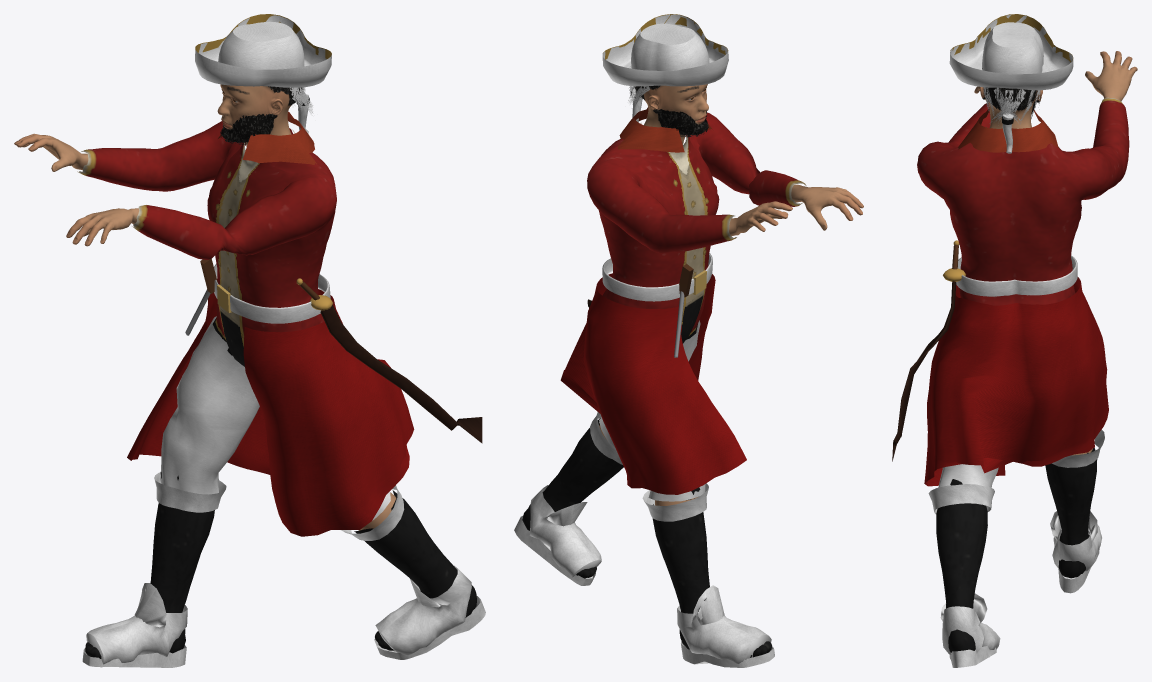
Rendered from SM_Art_Person_armada_officer.gltf.
3 renders of one model, left to right at view 1: azimuth 30°, elevation 25°; view 2: azimuth 150°, elevation 25°; view 3: azimuth 270°, elevation 25°, orthographic. The views are drawn at different scales.
Parts seen in each view (by area): view 1: SM_Art_Person_armada_officer; view 2: SM_Art_Person_armada_officer; view 3: SM_Art_Person_armada_officer.
Part boxes in pixels (x1,y1,x2,y2): SM_Art_Person_armada_officer: (14, 14, 485, 667); SM_Art_Person_armada_officer: (514, 14, 863, 667); SM_Art_Person_armada_officer: (892, 14, 1137, 667).
Size of the model in its own units: 1.19 by 1.85 by 0.7097.
Materials: 28 (22 with a texture image).
